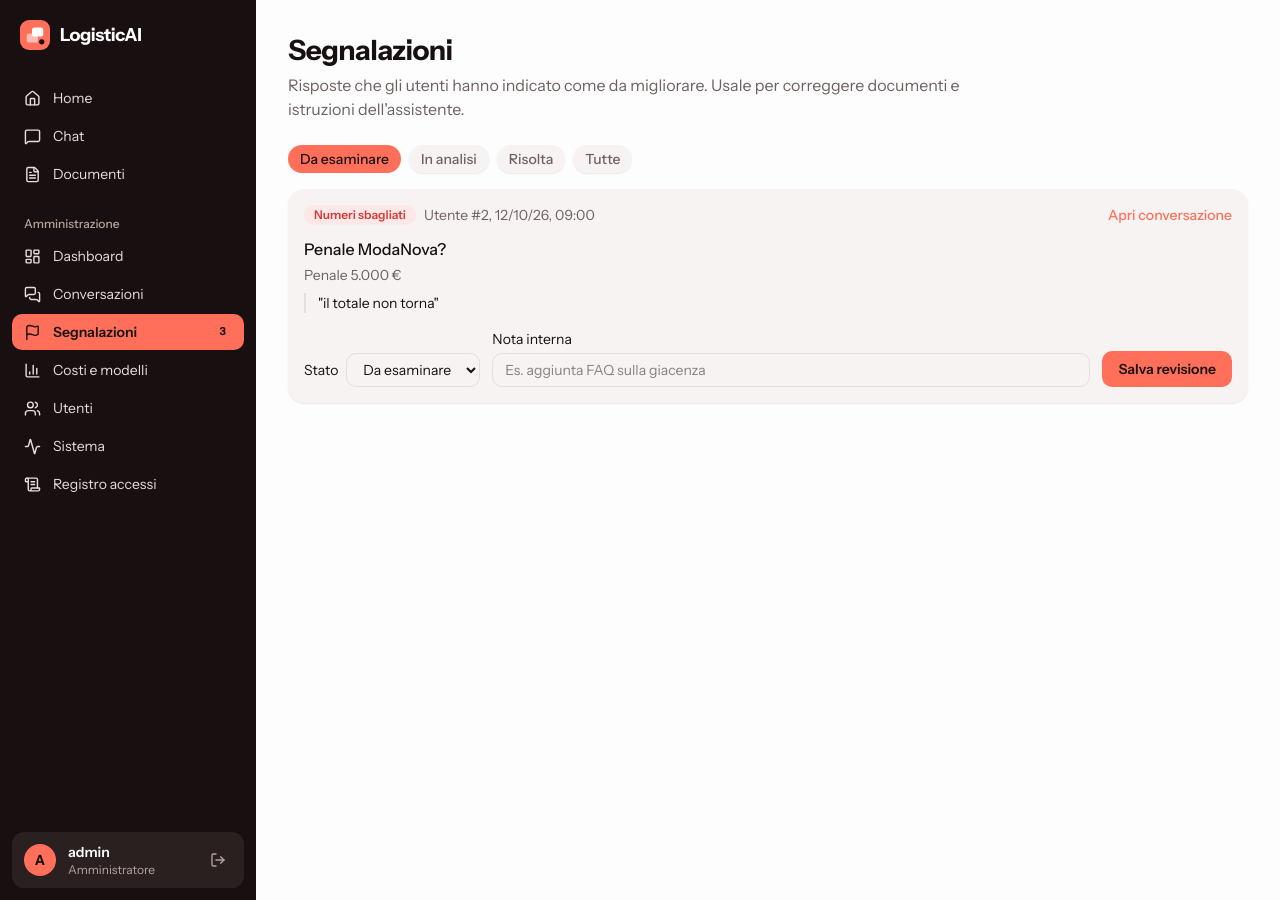
it: risposte segnalate › revisione con stato e nota
Expected: the text "Numeri sbagliati" is shown, [304,205,416,225]
Select "Risolta" in the dropdown labelled "Stato" at (413, 370), box [346,353,480,387]
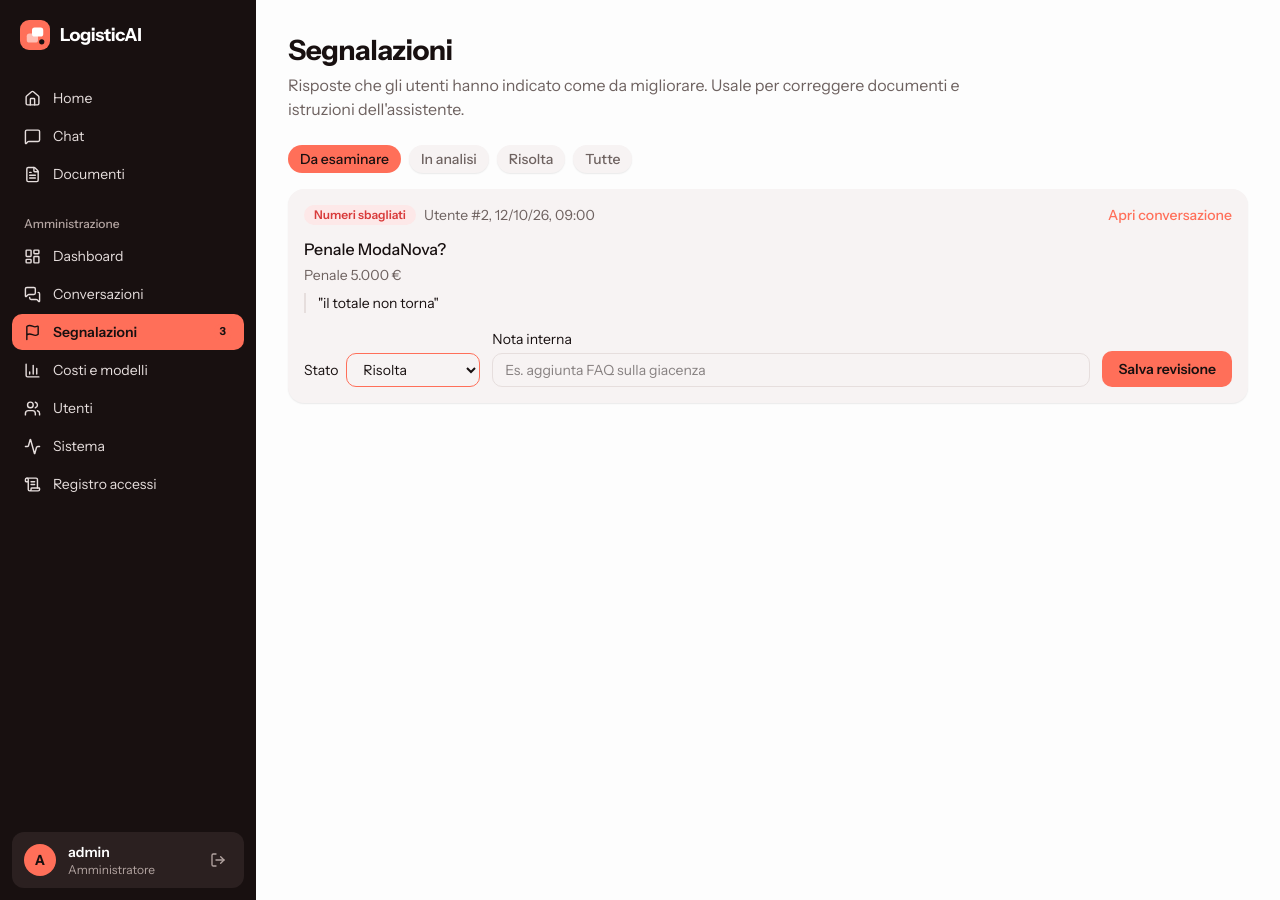
Type "Aggiunta funzione deterministica" into the field labelled "Nota interna".
click(791, 370); type("Aggiunta funzione deterministica")  # box [492,353,1090,387]
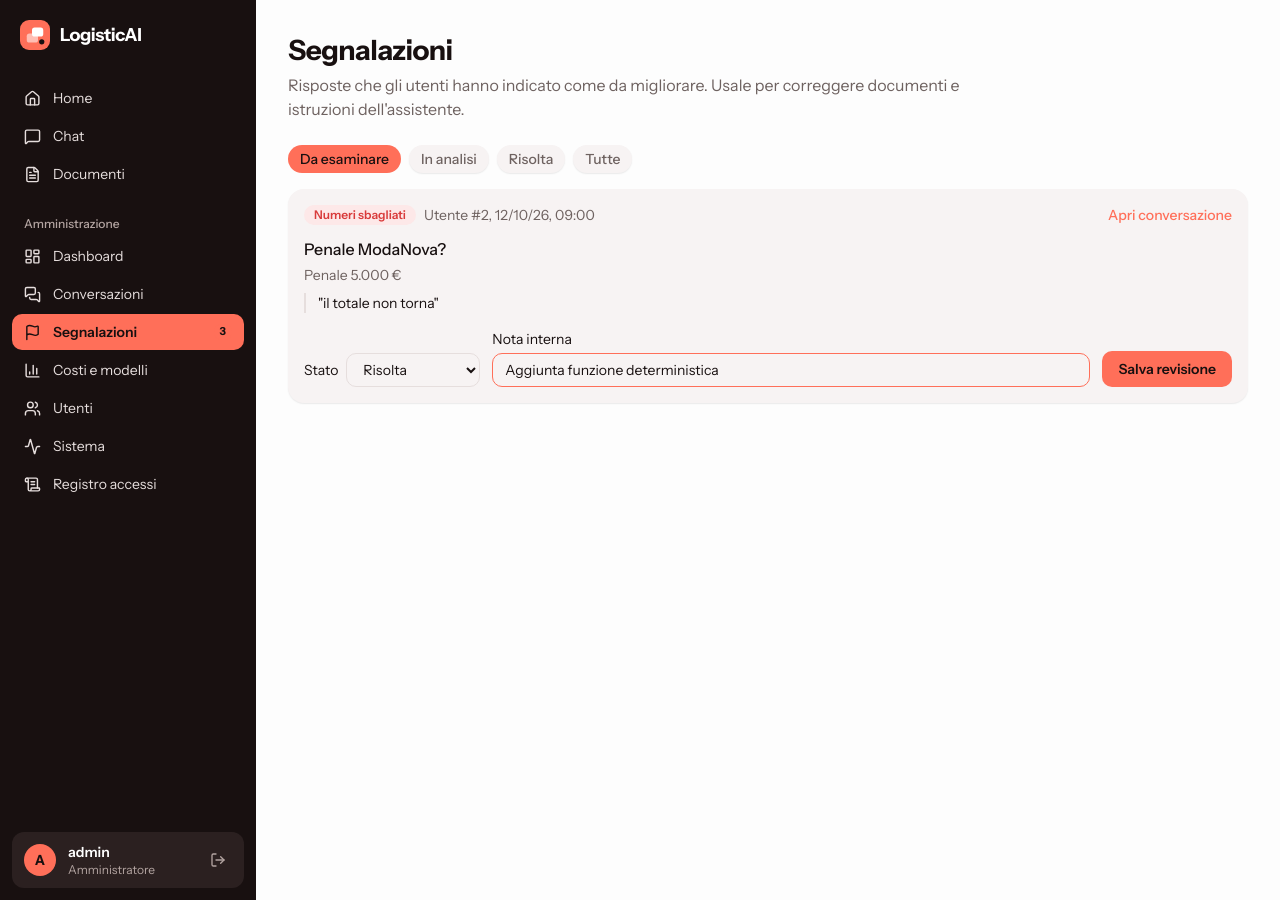
Click the button "Salva revisione".
click(1167, 369)  # box [1102,351,1232,387]
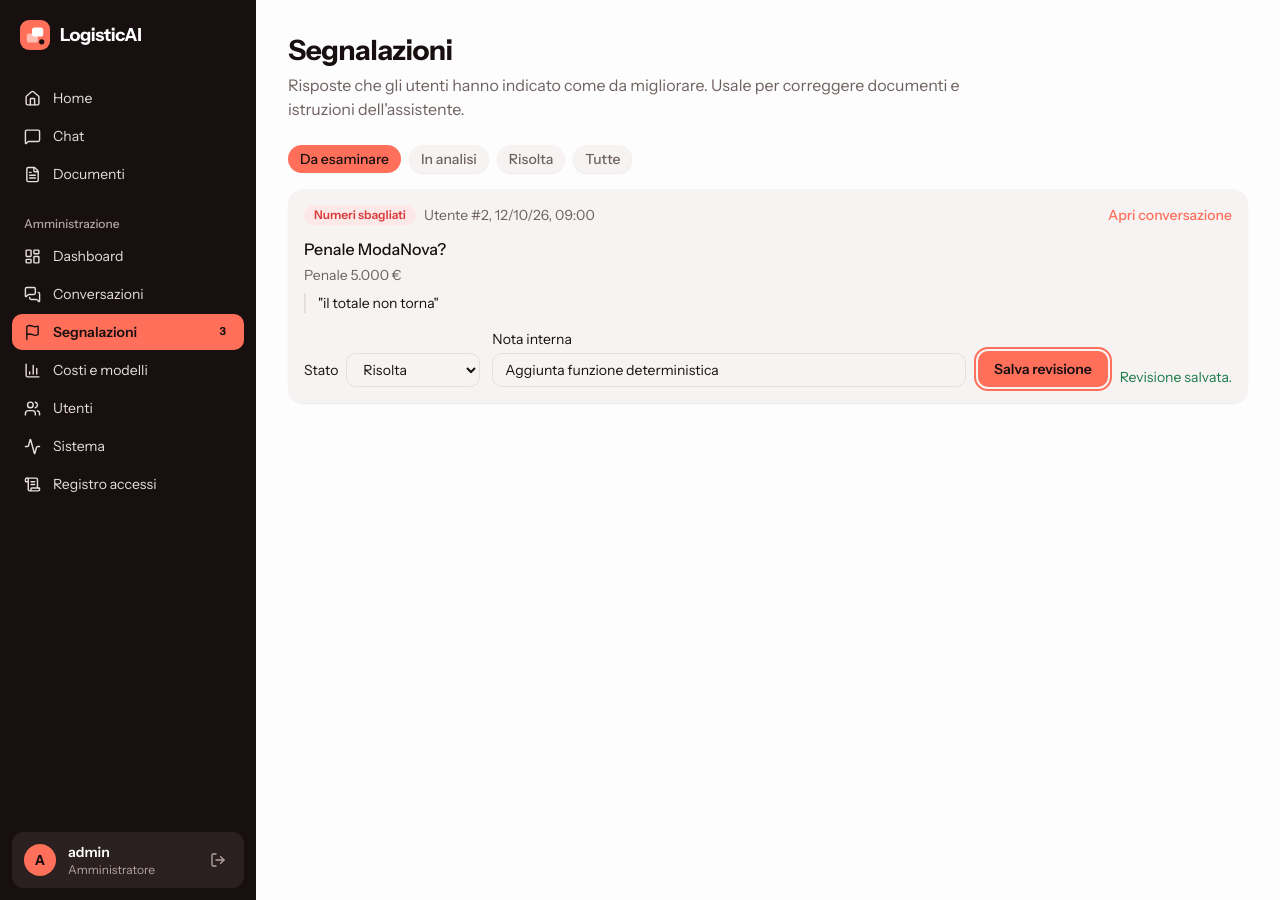
Now the message reads "Revisione salvata.", box [1120,368,1232,386]
